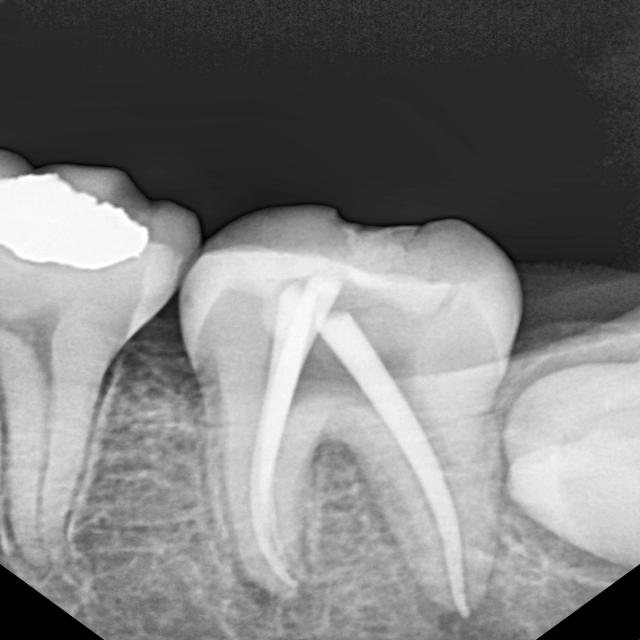RCT: (174, 429, 516, 640)
